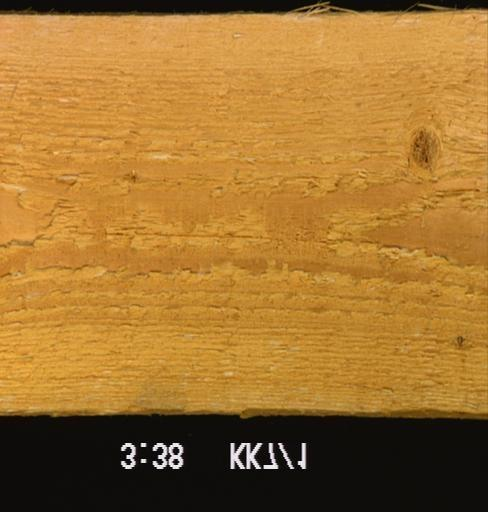small_knot: (122, 167, 140, 189), (455, 333, 463, 351)
sound_knot: (407, 123, 444, 179)
split: (103, 231, 274, 242), (439, 185, 481, 196)
wave: (0, 406, 487, 419)
